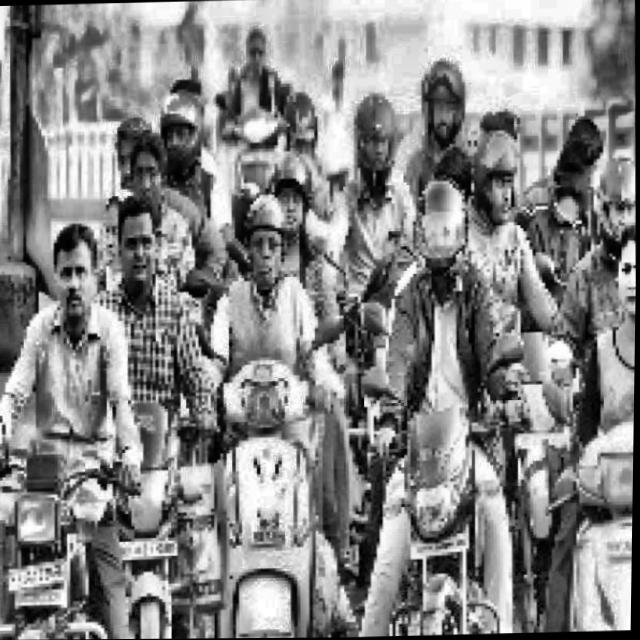motorcycle: (183, 319, 355, 639), (0, 362, 175, 640), (366, 326, 505, 637), (489, 286, 587, 634), (549, 394, 635, 632)
